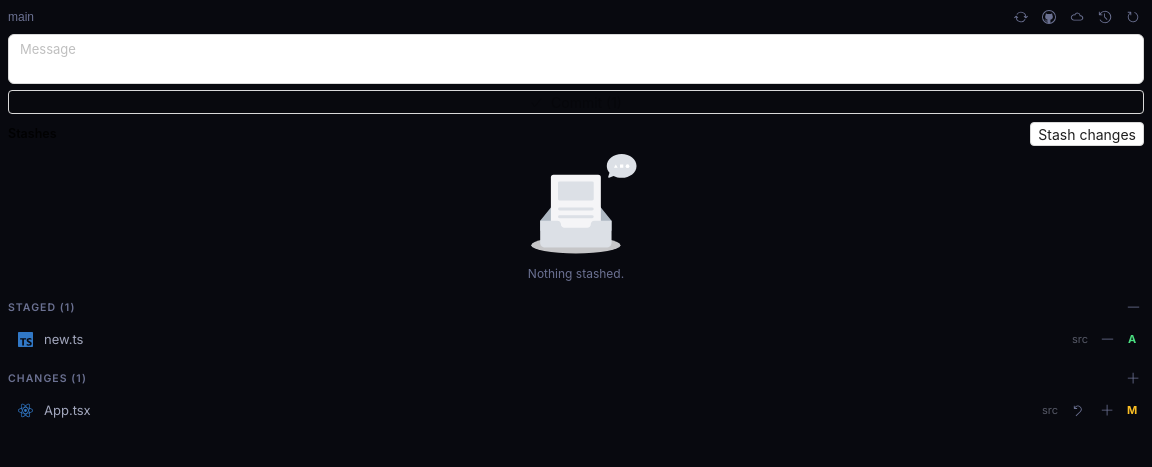
SourceControlPanel diffs › says so when a binary file has nothing to show
What coordinates should you click on to do the following:
click the text "App.tsx"
I would click on:
 (67, 410)
Its box is [44, 402, 91, 418].
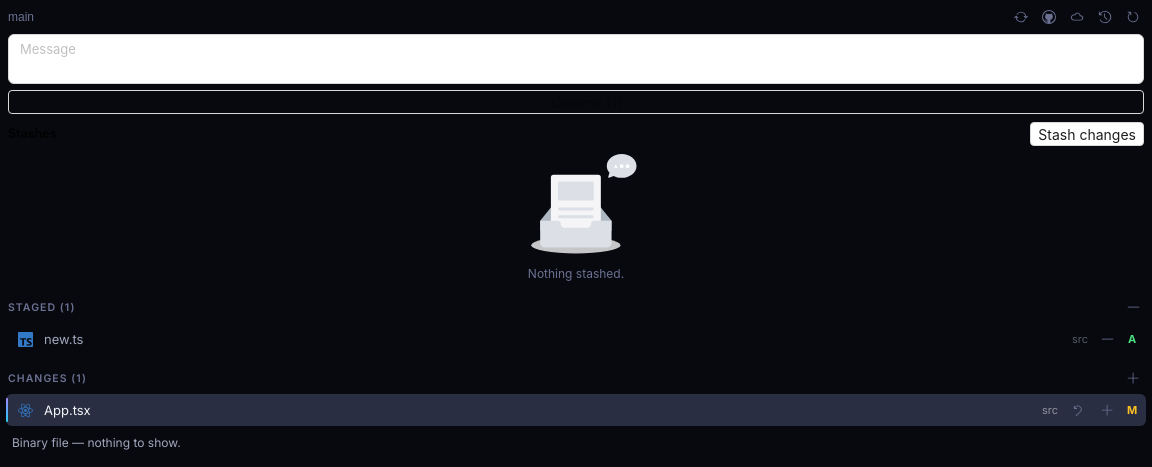
Check: the text "Binary file — nothing to show." is shown, box [12, 435, 181, 450]
